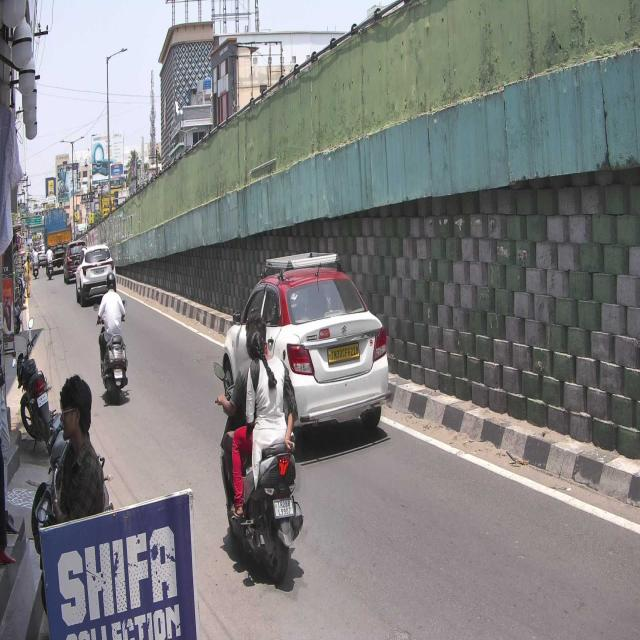double_rider: (212, 308, 306, 585)
